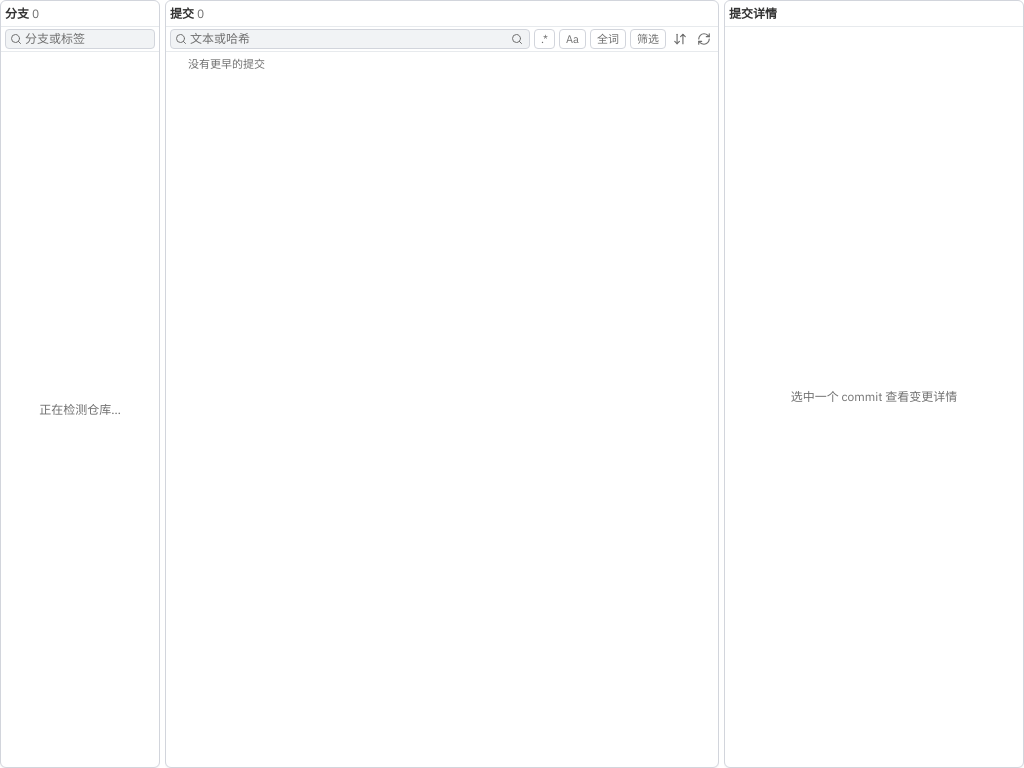
it: GitLogPanel 作者下拉过滤 › 聚焦作者输入框后展示 gitAuthors 候选（含 email 消歧与提交数）
Click the button "筛选": (648, 39) [630,29,666,49]
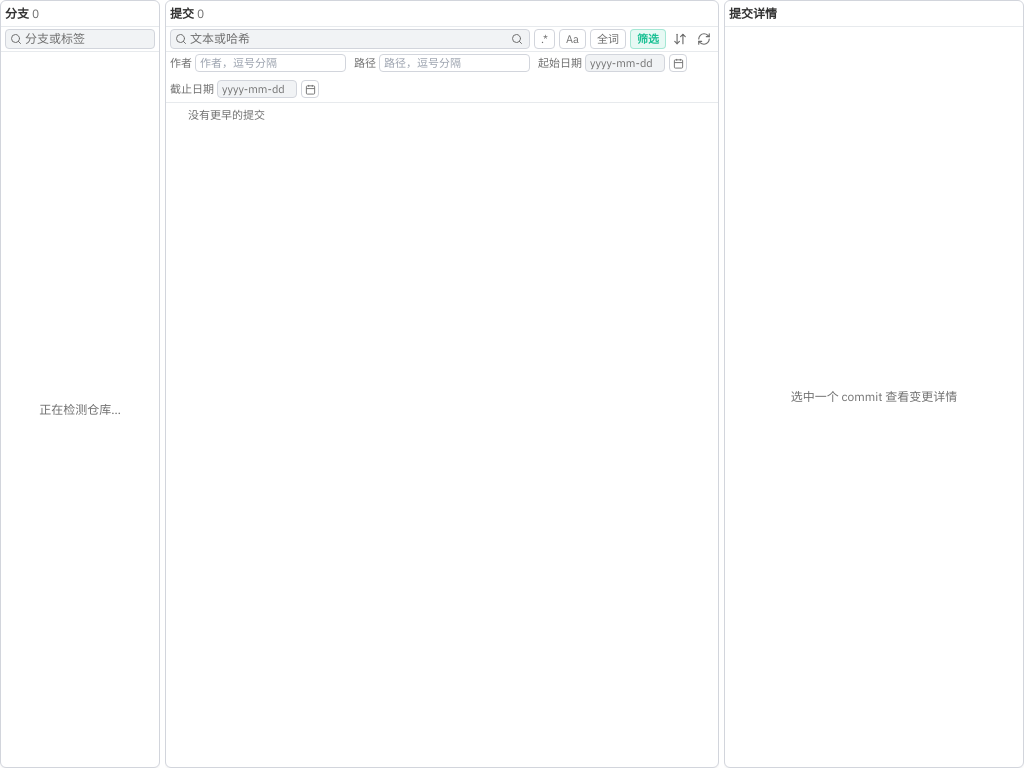
Focus the dropdown with placeholder "作者，逗号分隔": (270, 63) [195,54,346,72]
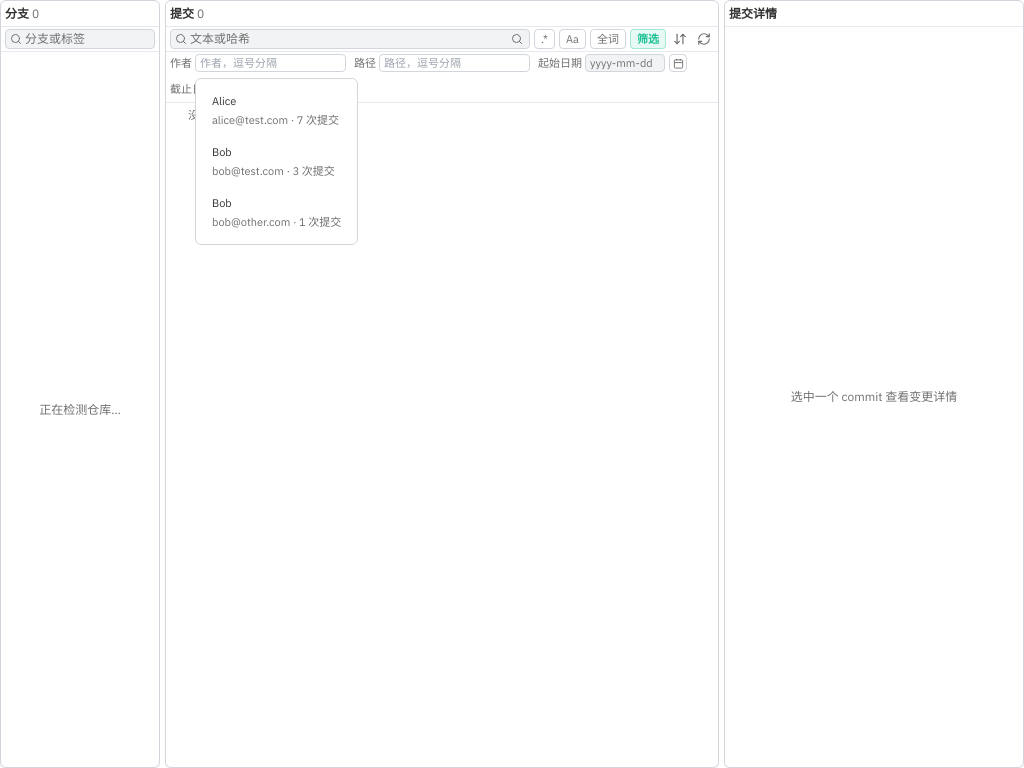
Expected: the text "Alice" is shown, [212,94,236,108]
Expected: the text "alice@test.com · 7 次提交" is shown, [212,112,341,128]
Expected: the text "bob@test.com · 3 次提交" is shown, [212,162,341,179]
